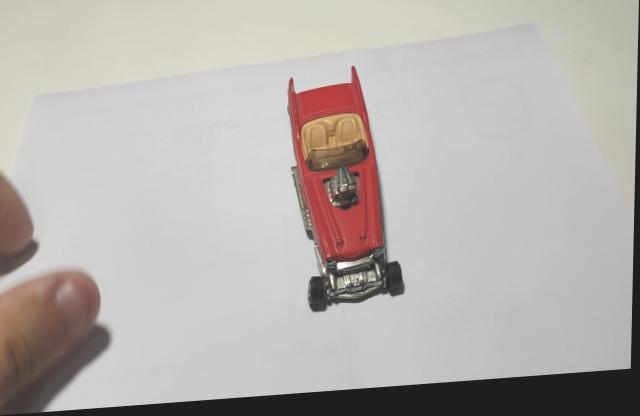03_V8: (287, 72, 407, 319)
